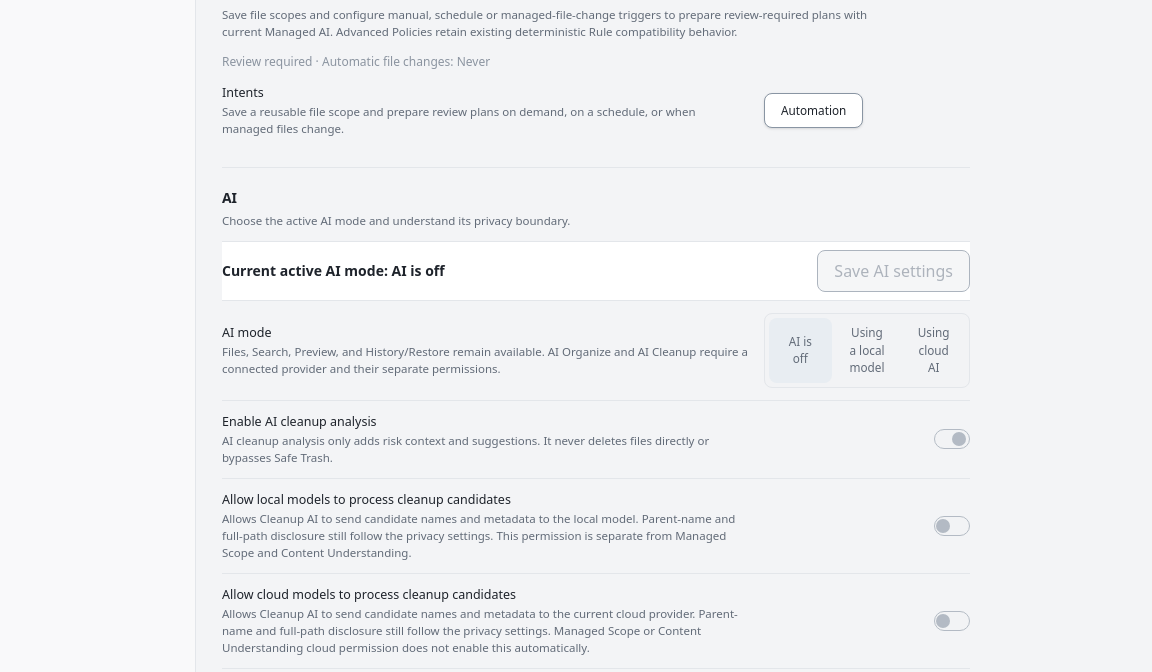
Scenario: settings view behavior › keeps runtime Off while a Cloud draft is unsaved, then publishes Cloud only after success
This screenshot has width=1152, height=672.
(page scrolled)
Step 1. Click the radio button labelled "Using cloud AI" → (934,350), box top-left (902, 318), bottom-right (965, 383)
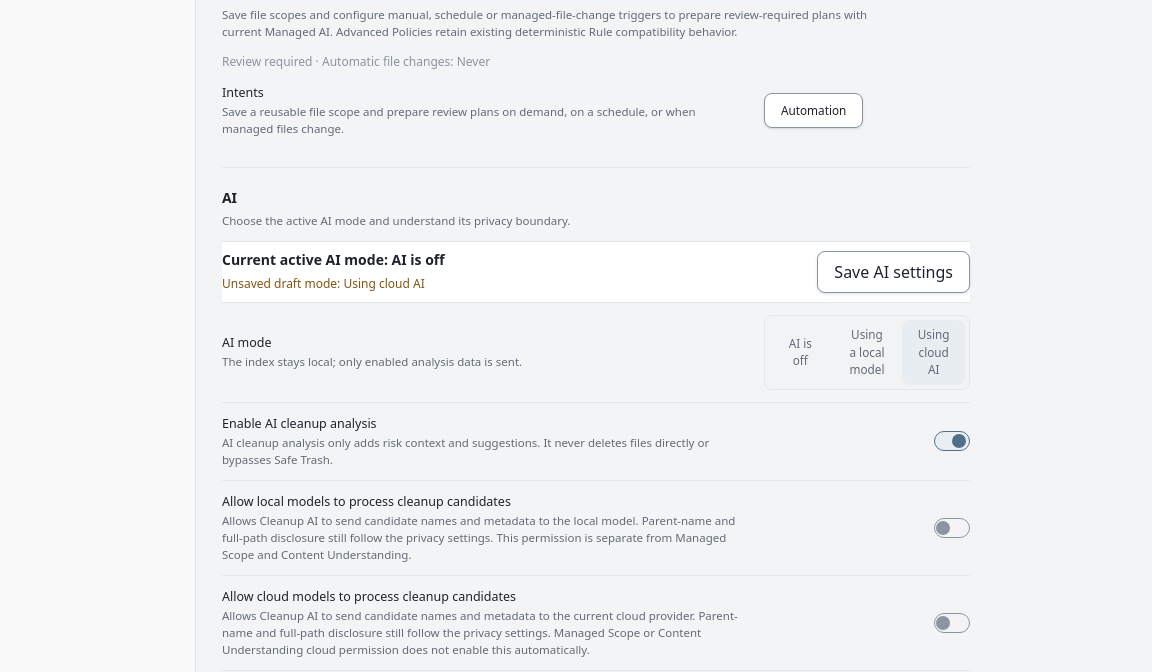
Expected: the element that starts with "Current active AI mode: AI is off" is shown, top-left (222, 250), bottom-right (445, 269)
Now the element that starts with "Current active AI mode: AI is off" shows "Unsaved draft mode: Using cloud AI", box top-left (222, 275), bottom-right (425, 292)
Step 2. Click the button "Save AI settings" → (894,272), box top-left (817, 251), bottom-right (970, 293)
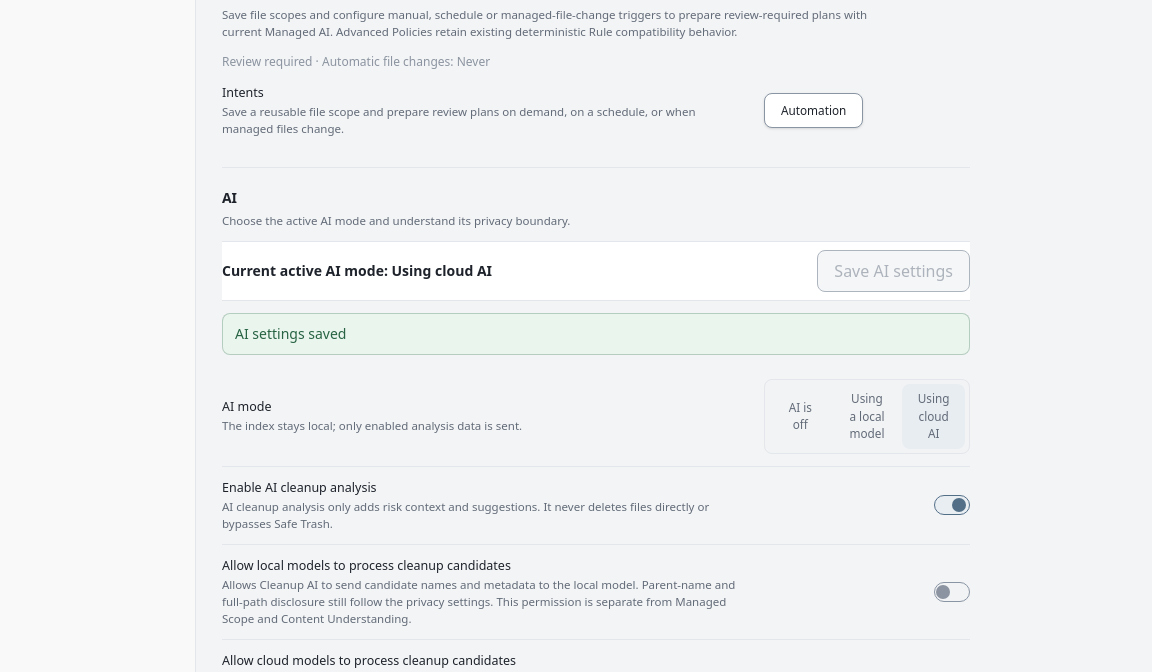
Now the element showing "Current active AI mode: Using cloud AI Save AI settings" is shown, box top-left (222, 241), bottom-right (970, 301)
